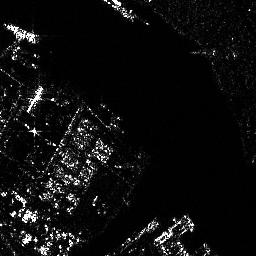ship: (100, 1, 142, 21), (2, 22, 40, 44)
